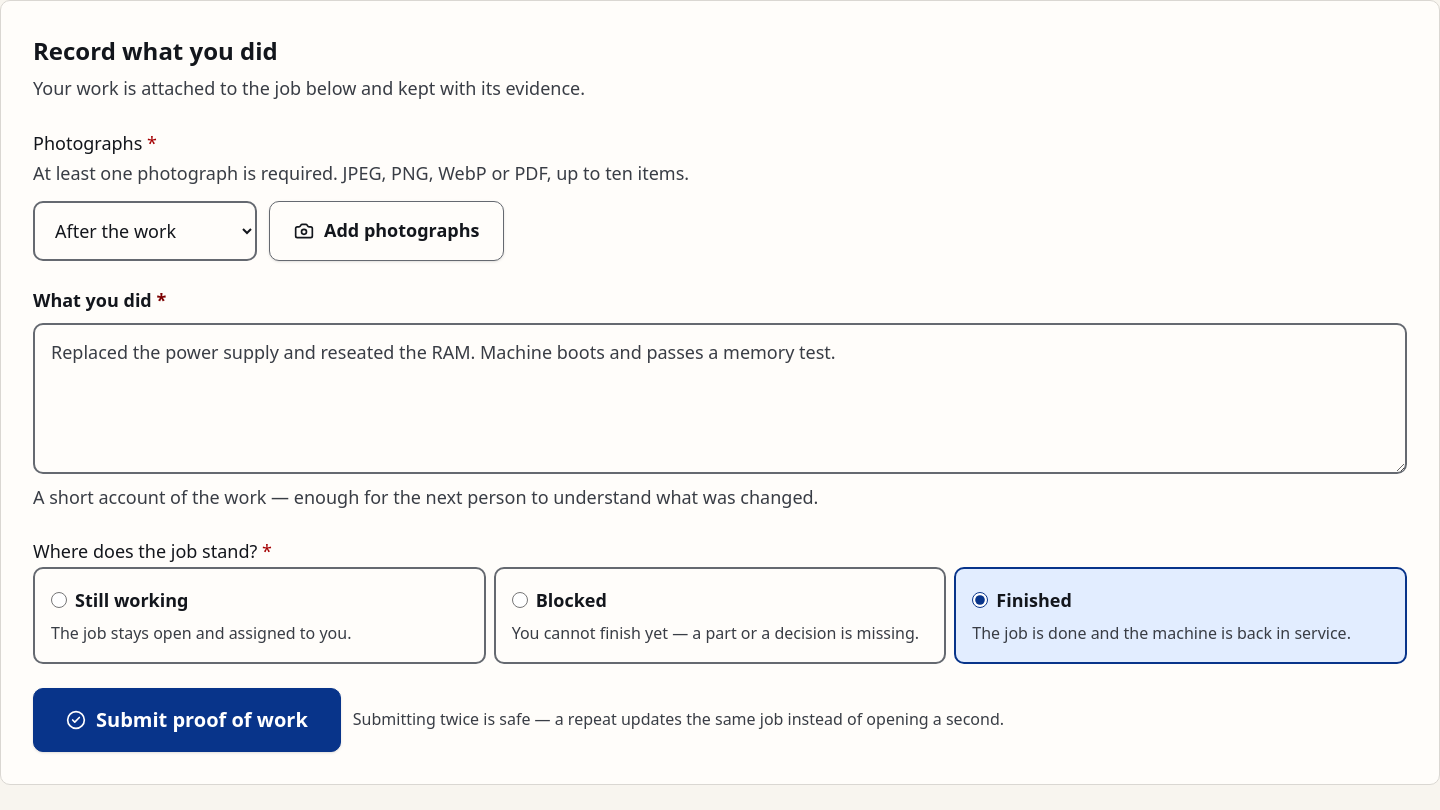
Test case: what it does with the servers answers › reports a rejected photograph against the evidence field
In the text box labelled "What you did *": (720, 399) [33,323,1407,474], type "Swapped the PSU."
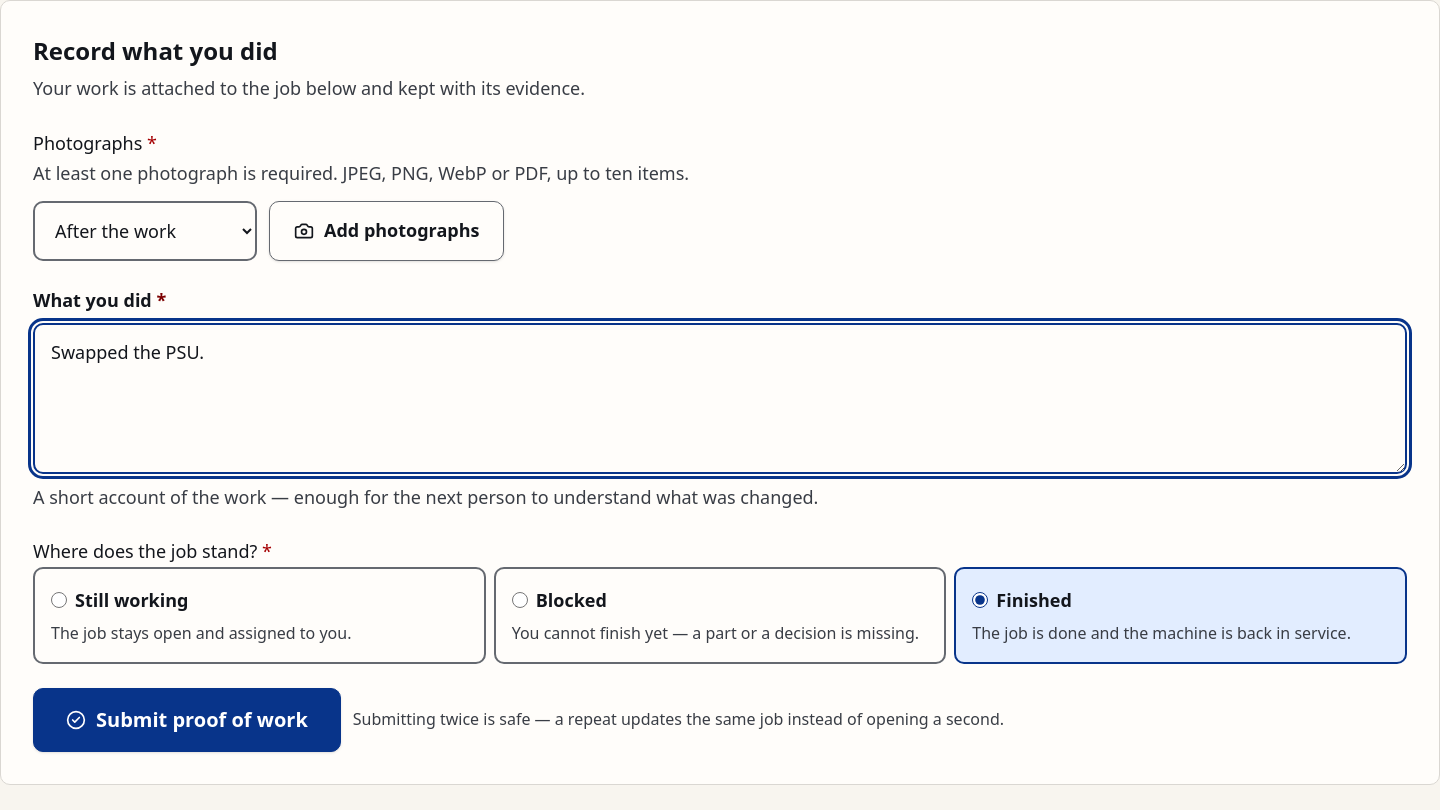
Click the button "Submit proof of work": click(187, 720) [33,688,341,752]
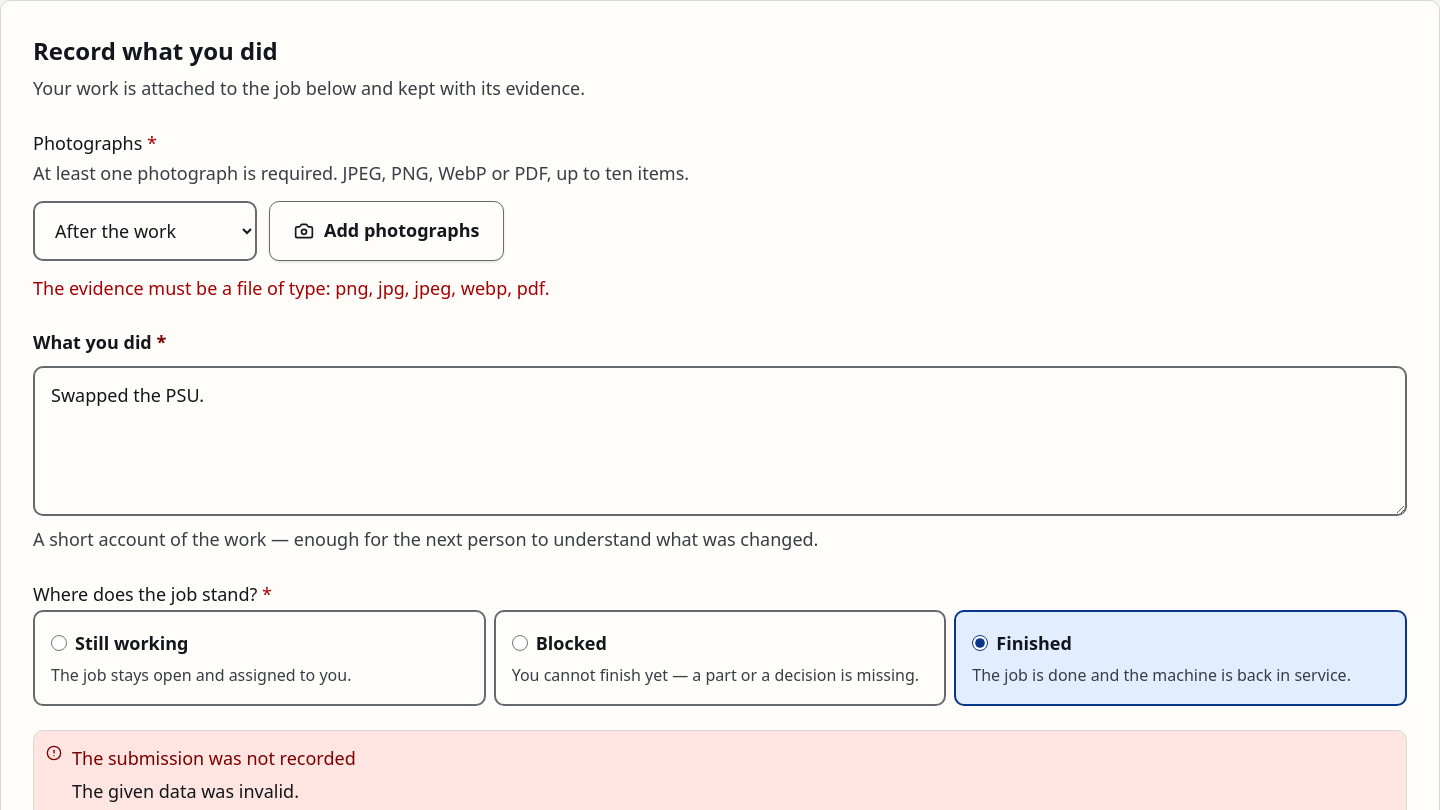
Expected: the text "must be a file of type" is shown, [33,276,550,300]
